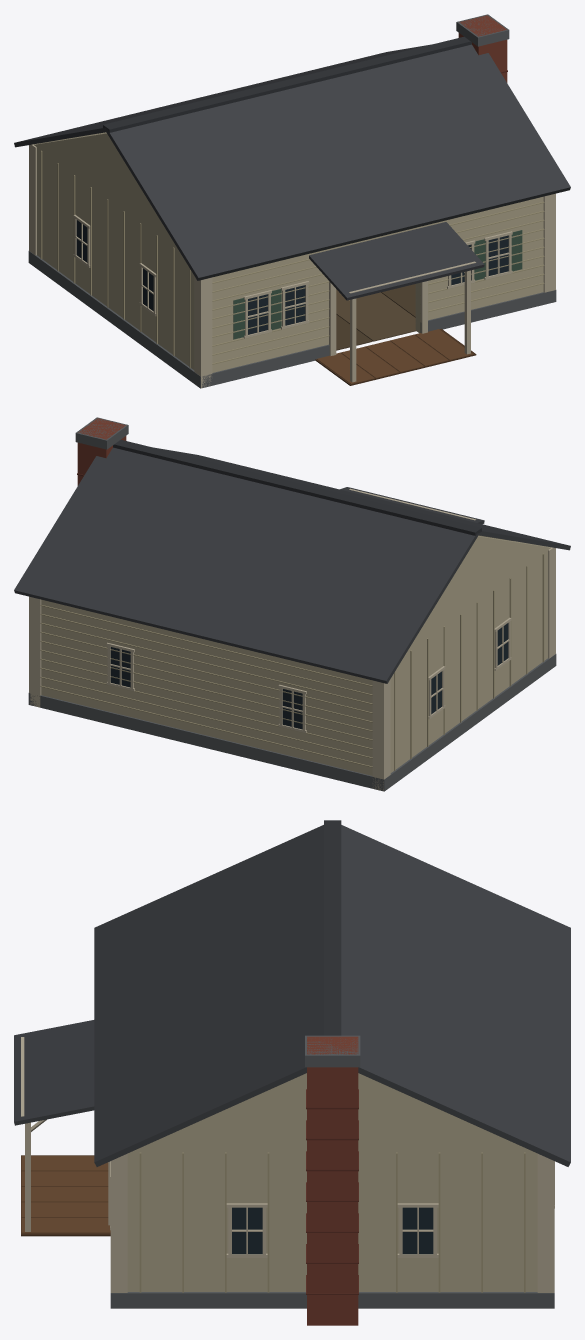
The model's file is bldg_farmhouse.glb.
3 views of the same model, one above another, from view 1: azimuth 30°, elevation 25°; view 2: azimuth 150°, elevation 25°; view 3: azimuth 270°, elevation 25° (orthographic). The views are drawn at different scales.
Visible parts, largest first — view 1: Roof, Walls, Interior; view 2: Roof, Walls; view 3: Roof, Walls.
Boxes of the visible parts, left/top/right/bottom form: Roof: left=14, top=37, right=570, bottom=300; Walls: left=28, top=14, right=556, bottom=388; Interior: left=336, top=284, right=416, bottom=350; Roof: left=14, top=440, right=570, bottom=683; Walls: left=28, top=417, right=556, bottom=791; Roof: left=14, top=820, right=570, bottom=1166; Walls: left=21, top=1035, right=554, bottom=1325.
Bounding box in the file's own units: 13.7 × 7 × 13.04.
